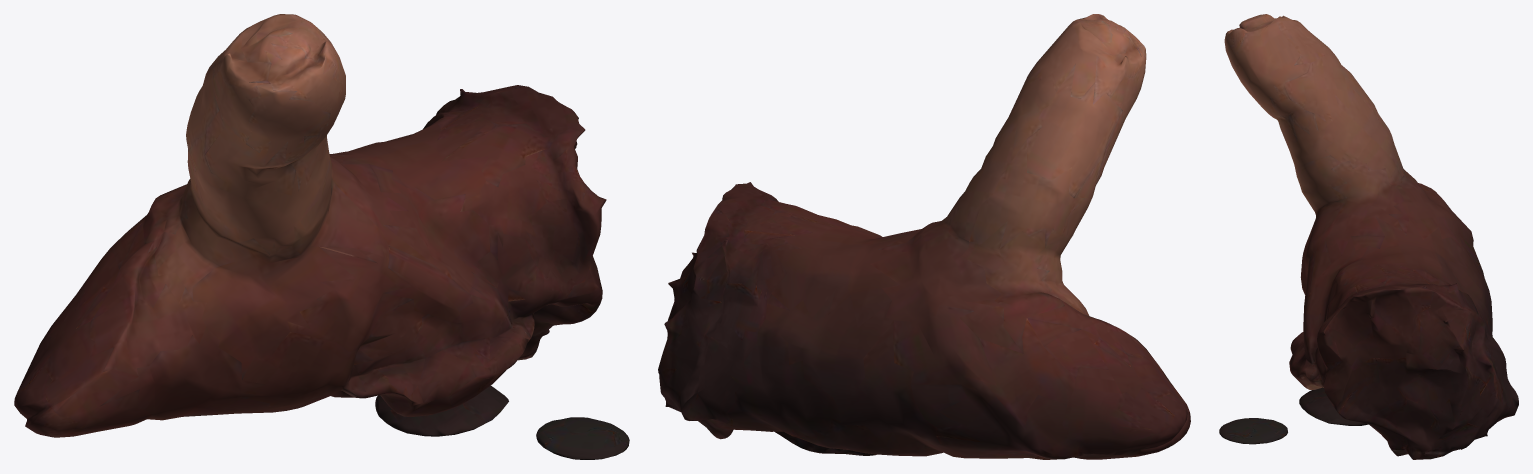
File: thumb.glb
3 views of the same model, side by side, from view 1: azimuth 30°, elevation 25°; view 2: azimuth 150°, elevation 25°; view 3: azimuth 270°, elevation 25° (orthographic). The views are drawn at different scales.
Parts seen in each view (by area): view 1: Mesh_0; view 2: Mesh_0; view 3: Mesh_0.
Part boxes in pixels (bbox=[...]): Mesh_0: bbox=[14, 14, 629, 459]; Mesh_0: bbox=[658, 14, 1190, 459]; Mesh_0: bbox=[1219, 14, 1518, 459].
Size of the model in its own units: 1.9 by 1.55 by 1.28.
Materials: 1 (1 with a texture image).
